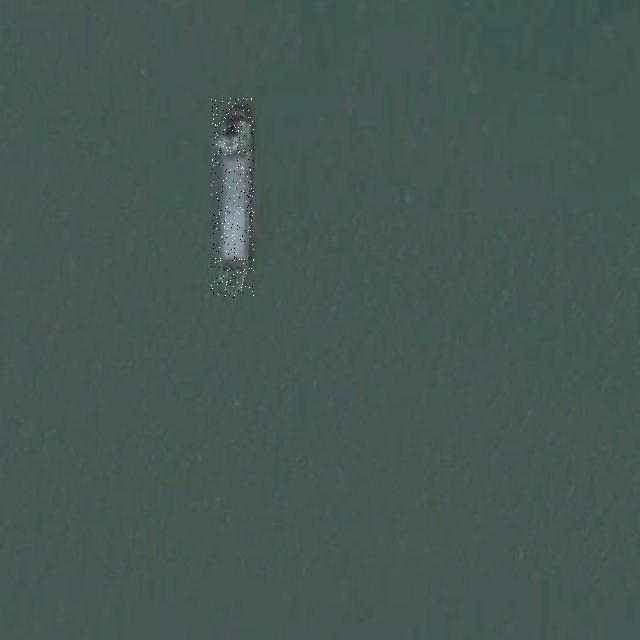boat: (211, 99, 254, 298)
